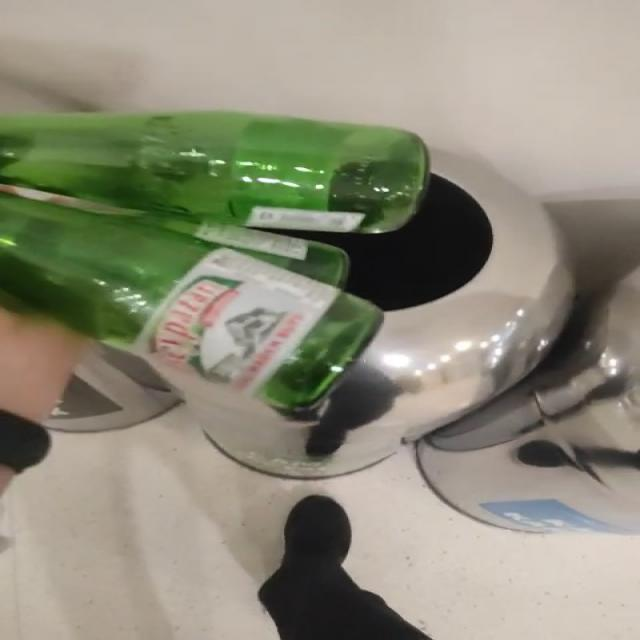glass: (3, 111, 429, 420)
